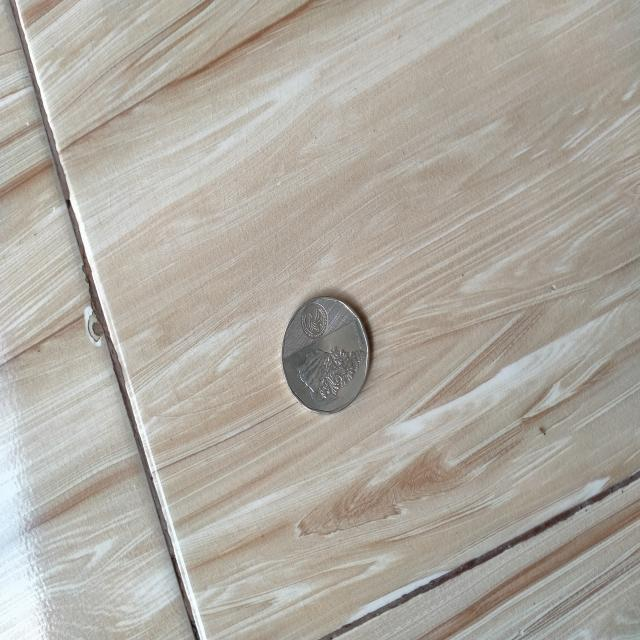10_New_Back: (285, 341, 369, 417)
